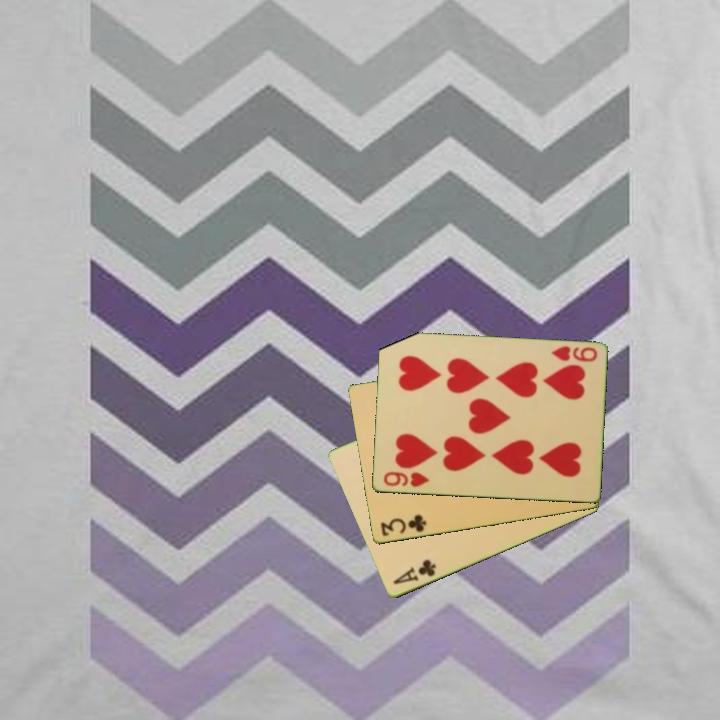3c: (377, 511, 429, 539)
9h: (548, 342, 600, 365), (380, 468, 432, 490)
Ac: (389, 556, 439, 588)
